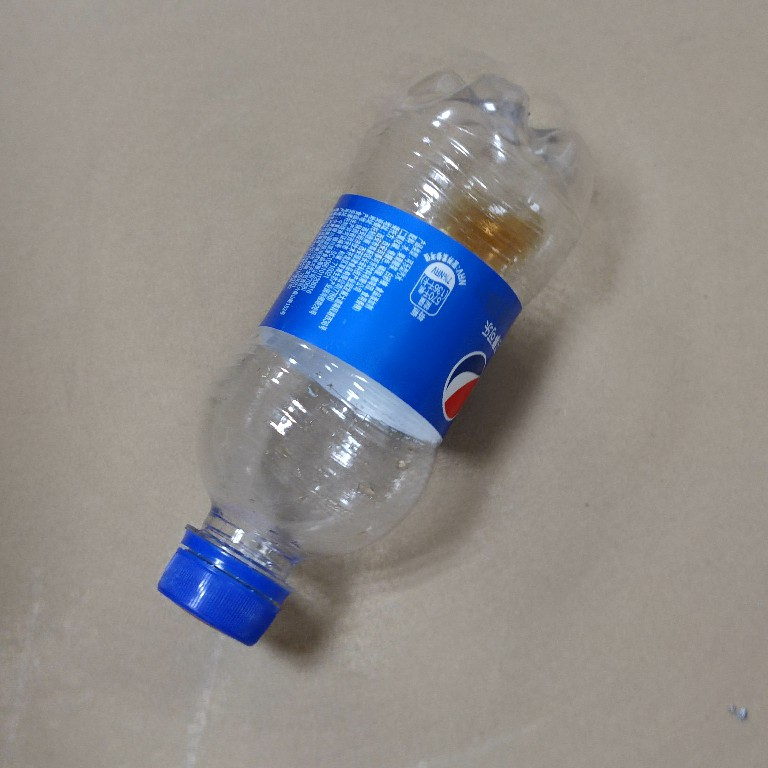bottle: (155, 59, 599, 652)
